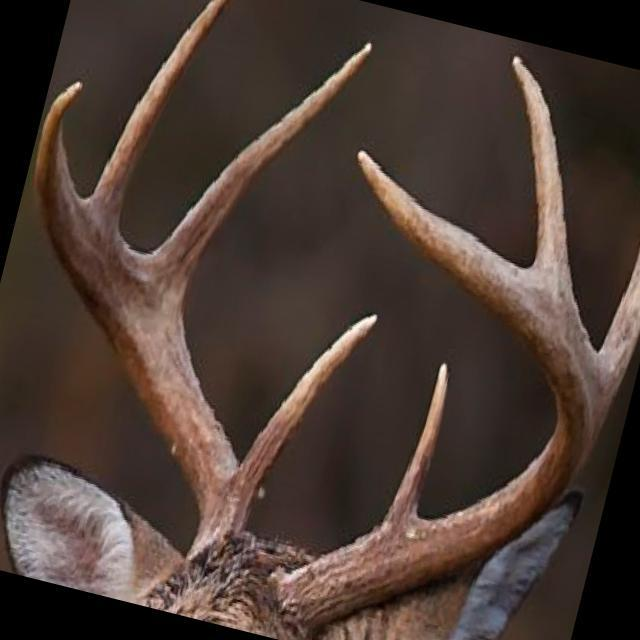L-F: (271, 146, 602, 634)
L-G1: (362, 361, 451, 536)
L-G2: (595, 240, 640, 422)
L-G3: (509, 53, 594, 352)
R-F: (33, 80, 251, 560)
R-G1: (237, 314, 379, 502)
R-G2: (125, 41, 372, 308)
R-G3: (87, 0, 231, 242)
